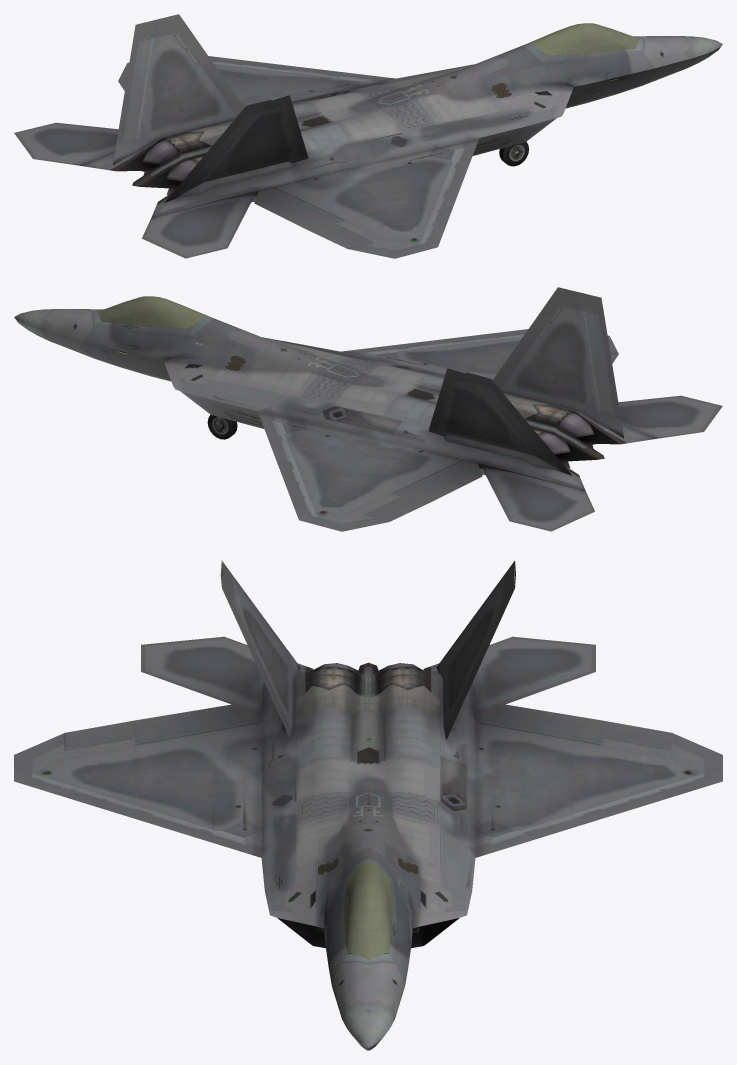
3 views of the same model, one above another, from view 1: azimuth 30°, elevation 25°; view 2: azimuth 150°, elevation 25°; view 3: azimuth 270°, elevation 25° (orthographic). The views are drawn at different scales.
Parts seen in each view (by area): view 1: LOD002__, Rudder_L, lantern, Flap_R, Rudder_R, Elevator_up_L, chassis_forward009, Elevator_up_R; view 2: LOD002__, Rudder_R, lantern, Flap_L, Rudder_L, Elevator_up_R, chassis_forward009, Elevator_up_L; view 3: LOD002__, lantern, Flap_L, Flap_R, Rudder_L, Rudder_R.
Part boxes in pixels (x1=…): LOD002__: x1=14, y1=14, x2=722, y2=258; Rudder_L: x1=116, y1=18, x2=160, y2=141; lantern: x1=531, y1=23, x2=639, y2=55; Flap_R: x1=254, y1=186, x2=345, y2=229; Rudder_R: x1=178, y1=99, x2=271, y2=186; Elevator_up_L: x1=142, y1=138, x2=178, y2=164; chassis_forward009: x1=499, y1=141, x2=528, y2=166; Elevator_up_R: x1=166, y1=159, x2=198, y2=181; LOD002__: x1=14, y1=287, x2=722, y2=531; Rudder_R: x1=576, y1=292, x2=620, y2=414; lantern: x1=97, y1=296, x2=205, y2=328; Flap_L: x1=391, y1=459, x2=482, y2=502; Rudder_L: x1=466, y1=372, x2=558, y2=459; Elevator_up_R: x1=558, y1=411, x2=594, y2=437; chassis_forward009: x1=207, y1=414, x2=237, y2=439; Elevator_up_L: x1=538, y1=432, x2=570, y2=454; LOD002__: x1=14, y1=575, x2=722, y2=1050; lantern: x1=344, y1=862, x2=392, y2=959; Flap_L: x1=475, y1=704, x2=602, y2=745; Flap_R: x1=135, y1=704, x2=261, y2=745; Rudder_L: x1=447, y1=561, x2=515, y2=663; Rudder_R: x1=220, y1=560, x2=289, y2=663.
Size of the model in its own units: 18.86 by 5.07 by 13.75.
